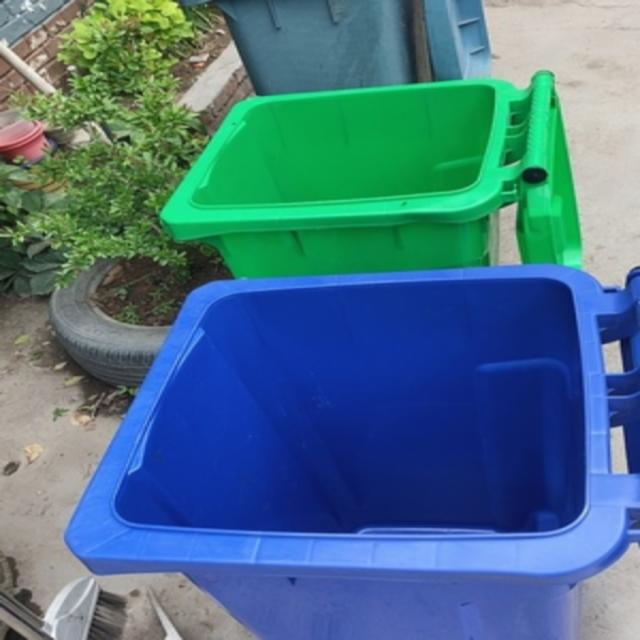ash bin: (64, 257, 638, 638), (156, 62, 584, 266), (183, 2, 493, 83)
